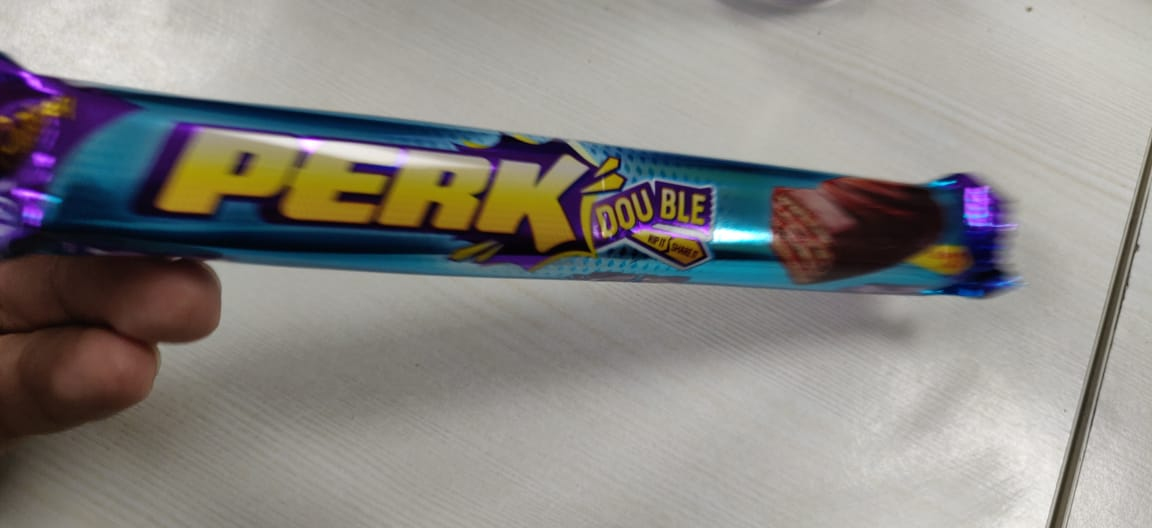perk: (3, 34, 1027, 342)
